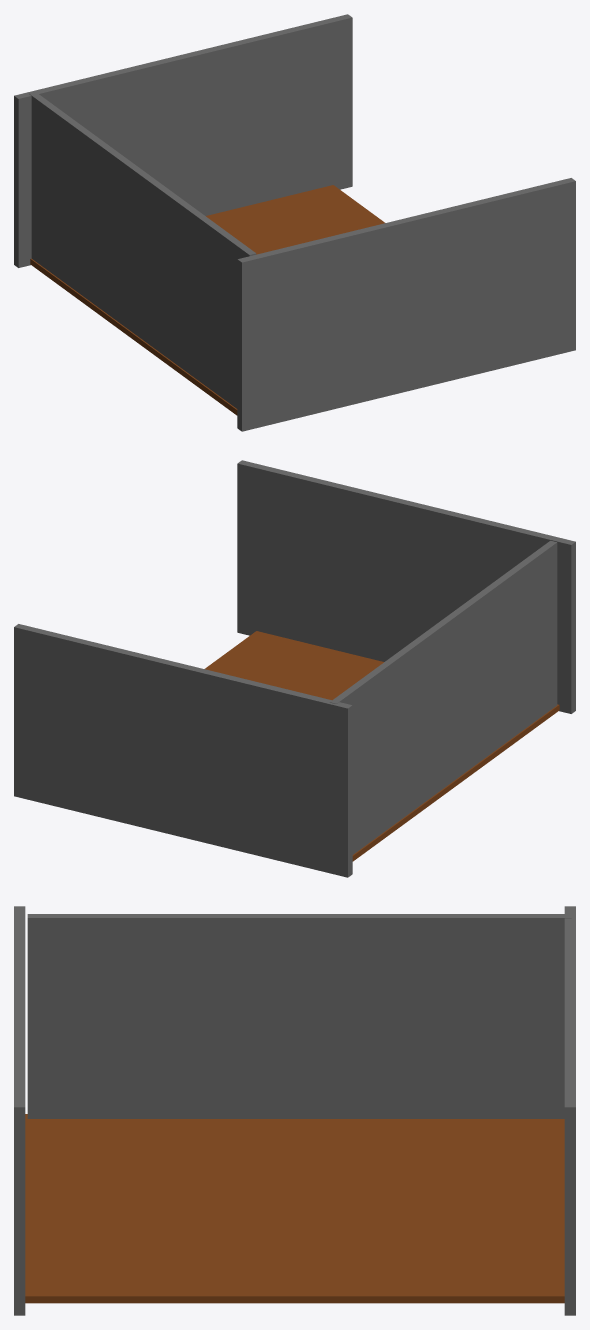
Rendered from ESCENA.fbx.
The picture shows the model from 3 angles, top to bottom: view 1: azimuth 30°, elevation 25°; view 2: azimuth 150°, elevation 25°; view 3: azimuth 270°, elevation 25°; orthographic projection. The views are drawn at different scales.
Parts seen in each view (by area): view 1: Cube.002; view 2: Cube.002; view 3: Cube.002.
Part boxes in pixels (x1,y1,x2,y2): Cube.002: (14, 14, 575, 431); Cube.002: (14, 460, 575, 877); Cube.002: (14, 906, 575, 1315).
Size of the model in its own units: 1976 by 958 by 2337.
Materials: 1 (1 with a texture image).
